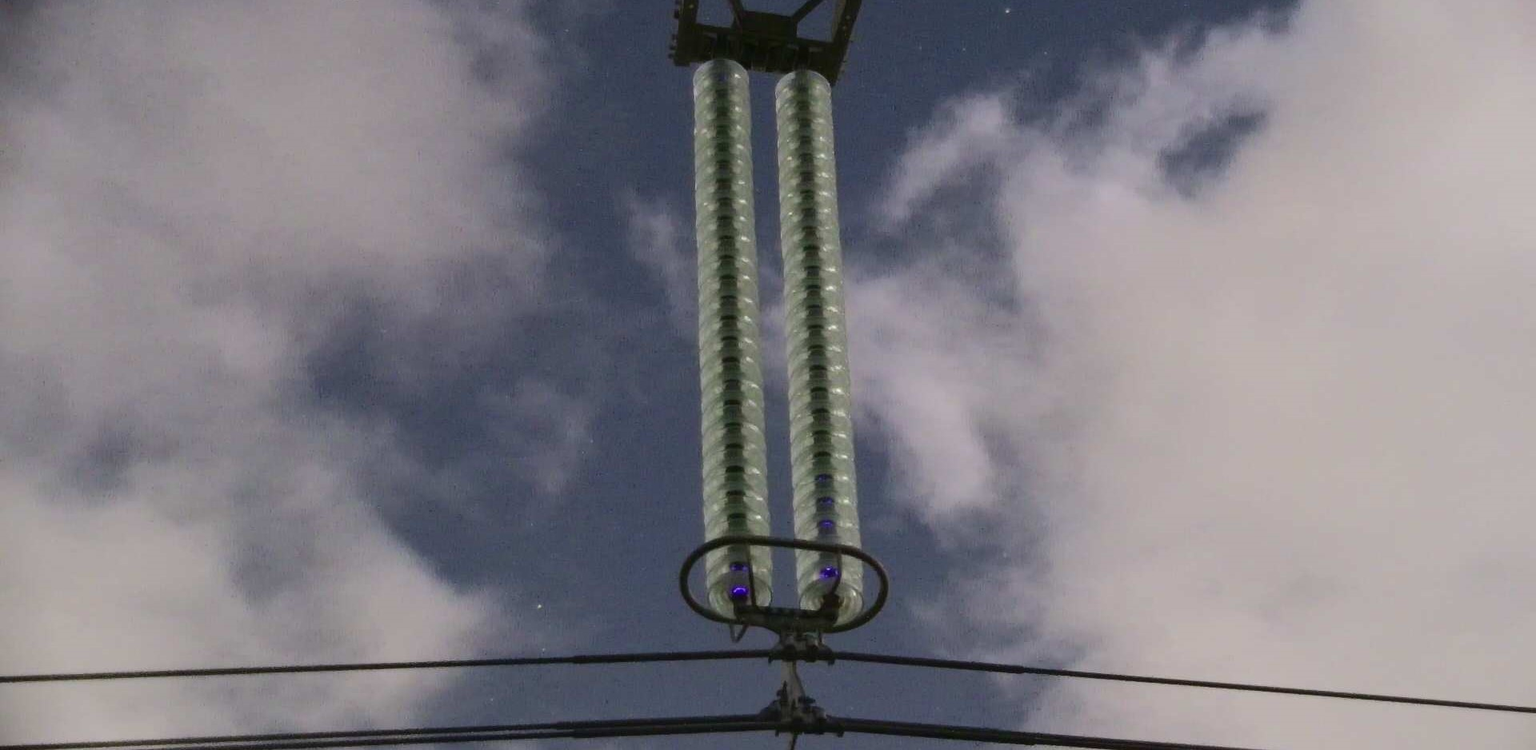绝缘子污闪: (818, 565, 838, 578), (730, 584, 748, 595), (730, 562, 748, 572), (819, 498, 834, 505), (820, 521, 832, 528), (818, 476, 826, 481)
